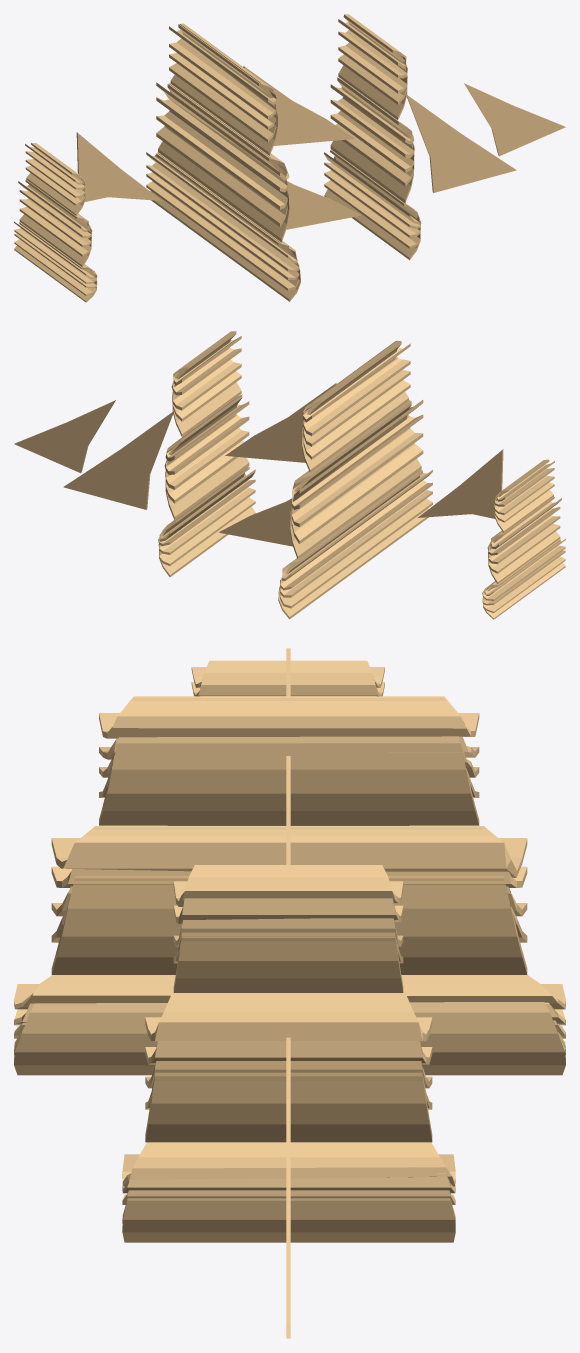
File: Sails.fbx
3 views of the same model, one above another, from view 1: azimuth 30°, elevation 25°; view 2: azimuth 150°, elevation 25°; view 3: azimuth 270°, elevation 25° (orthographic). The views are drawn at different scales.
Visible parts, largest first — view 1: Plane.001, Sail 3Q Mid 2, Plane, Plane.003, Sail Half Mid 2, Plane.002, Sail Full Mid 2, Sail 3Q Mid 3, Sail 1Q Mid 3, Sail 3Q Mid 1, Sail Full Front 2, Plane.004 (+37 smaller); view 2: Plane.001, Sail 3Q Mid 2, Plane, Plane.003, Sail Half Mid 2, Plane.002, Sail Full Mid 2, Sail 3Q Mid 3, Sail 3Q Mid 1, Sail Full Front 2, Sail 1Q Mid 3, Plane.004 (+37 smaller); view 3: Sail Full Mid 1, Sail Full Mid 2, Sail Full Mid 3, Sail Empty Mid 2, Sail Full Front 2, Sail Full Front 3, Sail Empty Mid 1, Sail Full Front 1, Sail Empty Front 2, Sail Empty Front 3, Sail Empty Mid 3, Sail Empty Front 1 (+11 smaller).
Part boxes in pixels (x1,y1,x2,y2): Plane.001: [407, 95, 516, 192]; Sail 3Q Mid 2: [156, 88, 287, 226]; Plane: [464, 83, 565, 156]; Plane.003: [76, 132, 161, 201]; Sail Half Mid 2: [156, 111, 287, 209]; Plane.002: [243, 66, 354, 145]; Sail Full Mid 2: [158, 84, 289, 242]; Sail 3Q Mid 3: [146, 158, 299, 290]; Sail 1Q Mid 3: [146, 162, 299, 272]; Sail 3Q Mid 1: [169, 28, 276, 142]; Sail Full Front 2: [330, 81, 414, 203]; Plane.004: [286, 181, 360, 229]; Plane.001: [63, 412, 173, 509]; Sail 3Q Mid 2: [291, 405, 423, 544]; Plane: [14, 400, 115, 473]; Plane.003: [418, 449, 503, 518]; Sail Half Mid 2: [291, 428, 423, 526]; Plane.002: [225, 383, 336, 462]; Sail Full Mid 2: [290, 401, 421, 559]; Sail 3Q Mid 3: [280, 476, 432, 608]; Sail 3Q Mid 1: [303, 345, 410, 459]; Sail Full Front 2: [165, 398, 249, 520]; Sail 1Q Mid 3: [280, 480, 432, 590]; Plane.004: [219, 498, 292, 546]; Sail Full Mid 1: [99, 698, 479, 825]; Sail Full Mid 2: [51, 827, 527, 974]; Sail Full Mid 3: [14, 975, 565, 1075]; Sail Empty Mid 2: [51, 826, 527, 877]; Sail Full Front 2: [145, 1072, 432, 1142]; Sail Full Front 3: [122, 1198, 455, 1242]; Sail Empty Mid 1: [99, 696, 479, 738]; Sail Full Front 1: [173, 932, 403, 992]; Sail Empty Front 2: [145, 994, 432, 1041]; Sail Empty Front 3: [122, 1142, 455, 1186]; Sail Empty Mid 3: [14, 975, 565, 1009]; Sail Empty Front 1: [173, 865, 403, 906].
Bounding box in the file's own units: 16949 × 6642 × 8166.
